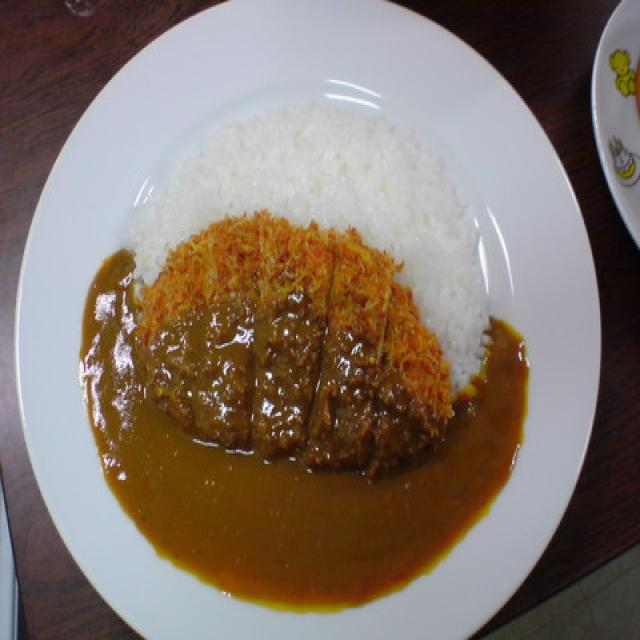猪肉菜式: (25, 26, 603, 640)
